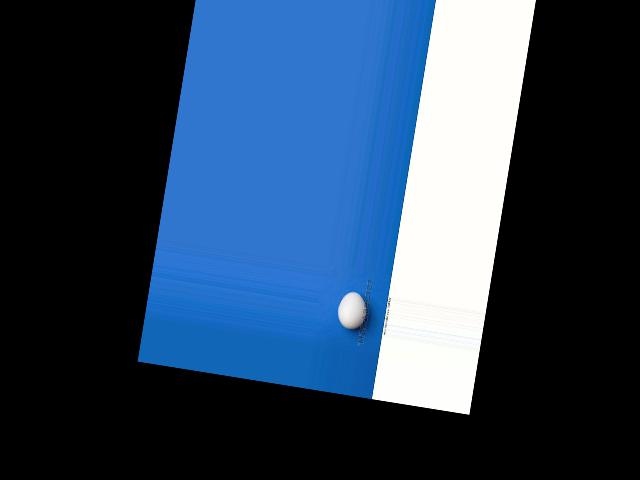egg: (335, 290, 370, 331)
